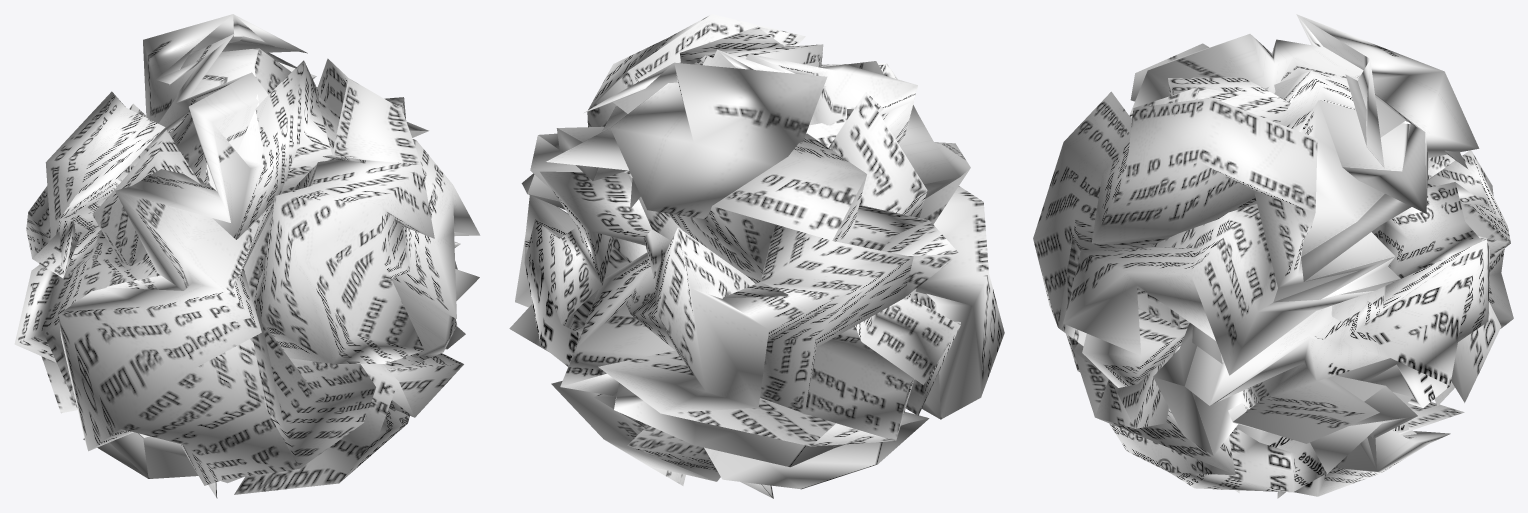
The model's file is Crumpled Paper.fbx.
The picture shows the model from 3 angles, left to right: view 1: azimuth 30°, elevation 25°; view 2: azimuth 150°, elevation 25°; view 3: azimuth 270°, elevation 25°; orthographic projection. The views are drawn at different scales.
Visible parts, largest first — view 1: Plane_Plane.001; view 2: Plane_Plane.001; view 3: Plane_Plane.001.
Part boxes in pixels (x1=…): Plane_Plane.001: x1=14, y1=14, x2=480, y2=498; Plane_Plane.001: x1=509, y1=14, x2=1004, y2=498; Plane_Plane.001: x1=1033, y1=14, x2=1513, y2=498.
Bounding box in the file's own units: 9.88 × 9.59 × 9.39.
